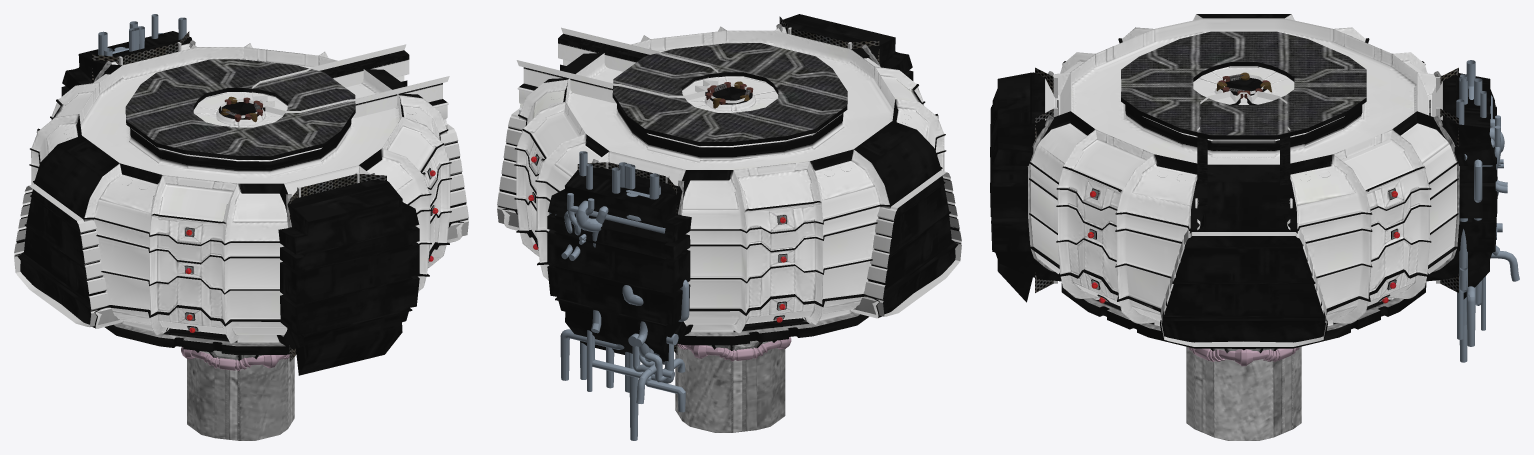
File: finalroomfinal-transformed.glb
3 renders of one model, left to right at view 1: azimuth 30°, elevation 25°; view 2: azimuth 150°, elevation 25°; view 3: azimuth 270°, elevation 25°, orthographic. The views are drawn at different scales.
Visible parts, largest first — view 1: 1-_wire_000000000, 11-_wire_140088225, 12-_wire_143225087, 3-_wire_055069083, 4-_wire_069083055; view 2: 1-_wire_000000000, 3-_wire_055069083, 11-_wire_140088225, 12-_wire_143225087, 4-_wire_069083055; view 3: 1-_wire_000000000, 3-_wire_055069083, 12-_wire_143225087, 11-_wire_140088225, 4-_wire_069083055.
Part boxes in pixels (left/top/right/bottom): 1-_wire_000000000: left=17, top=31, right=464, bottom=440; 11-_wire_140088225: left=14, top=124, right=468, bottom=327; 12-_wire_143225087: left=252, top=44, right=449, bottom=127; 3-_wire_055069083: left=98, top=14, right=289, bottom=370; 4-_wire_069083055: left=92, top=31, right=386, bottom=361; 1-_wire_000000000: left=502, top=14, right=958, bottom=432; 3-_wire_055069083: left=549, top=151, right=791, bottom=440; 11-_wire_140088225: left=497, top=109, right=961, bottom=316; 12-_wire_143225087: left=516, top=27, right=718, bottom=113; 4-_wire_069083055: left=577, top=16, right=879, bottom=354; 1-_wire_000000000: left=990, top=14, right=1497, bottom=440; 3-_wire_055069083: left=1188, top=60, right=1519, bottom=366; 12-_wire_143225087: left=1195, top=91, right=1292, bottom=229; 11-_wire_140088225: left=1161, top=229, right=1326, bottom=346; 4-_wire_069083055: left=1035, top=67, right=1458, bottom=292.
Bounding box in the file's own units: 237 × 189 × 268.
Materials: 14 (14 with a texture image).
